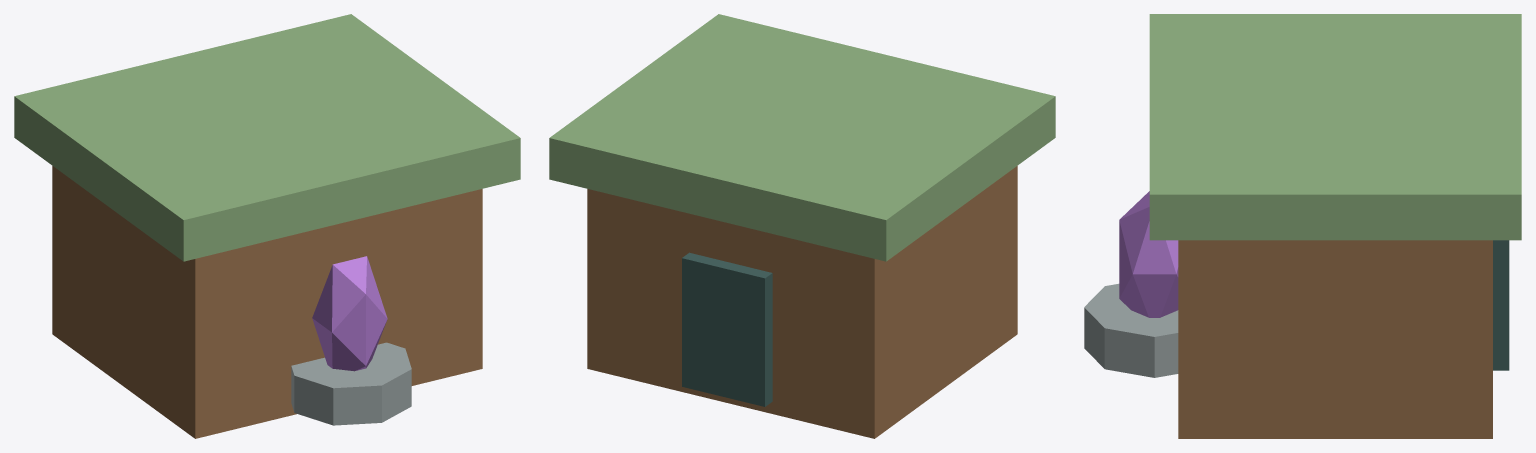
File: building_healing_hut.glb
3 renders of one model, left to right at view 1: azimuth 30°, elevation 25°; view 2: azimuth 150°, elevation 25°; view 3: azimuth 270°, elevation 25°, orthographic. The views are drawn at different scales.
Parts seen in each view (by area): view 1: roof, hut, healing_basin, healing_crystal; view 2: roof, hut, door; view 3: roof, hut, healing_basin, healing_crystal, door.
Boxes of the visible parts, x1,y1,x2,y2 form: roof: (14,14,520,261); hut: (52,166,482,438); healing_basin: (291,342,411,425); healing_crystal: (312,256,387,371); roof: (549,14,1055,261); hut: (587,166,1017,438); door: (682,252,772,406); roof: (1149,14,1521,240); hut: (1178,240,1492,438); healing_basin: (1084,283,1178,377); healing_crystal: (1119,191,1178,317); door: (1493,240,1509,370).
Size of the model in its own units: 1.7 by 1.13 by 1.74.
